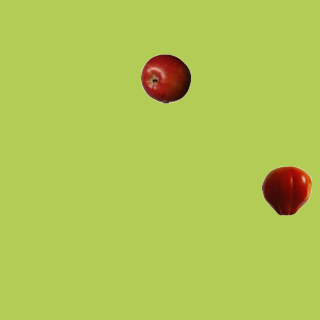Apple Braeburn: (140, 53, 190, 103)
Tomato 1: (261, 165, 311, 215)
